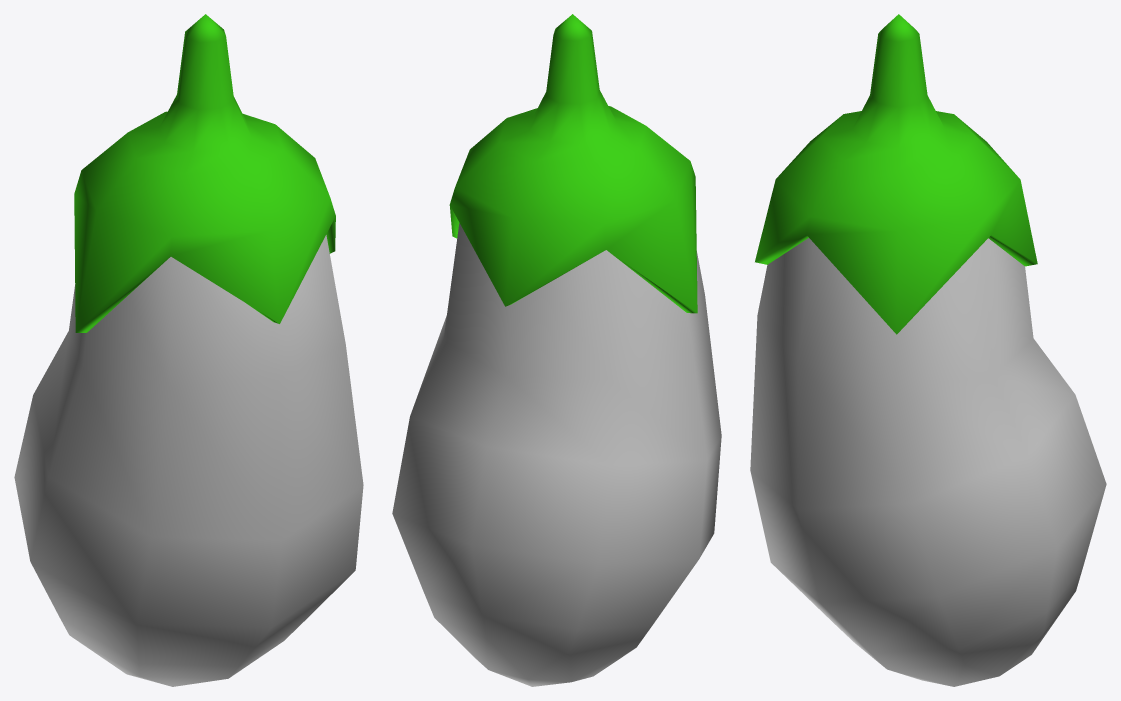
Rendered from Eggplant.obj.
3 renders of one model, left to right at view 1: azimuth 30°, elevation 25°; view 2: azimuth 150°, elevation 25°; view 3: azimuth 270°, elevation 25°, orthographic. The views are drawn at different scales.
Visible parts, largest first — view 1: EggplantMesh_Cylinder.019; view 2: EggplantMesh_Cylinder.019; view 3: EggplantMesh_Cylinder.019.
Boxes of the visible parts, box(x1,y1,x2,y2) form: EggplantMesh_Cylinder.019: box(14, 14, 363, 686); EggplantMesh_Cylinder.019: box(392, 14, 721, 686); EggplantMesh_Cylinder.019: box(750, 14, 1106, 686).
Bounding box in the file's own units: 0.419 × 0.882 × 0.4304.
